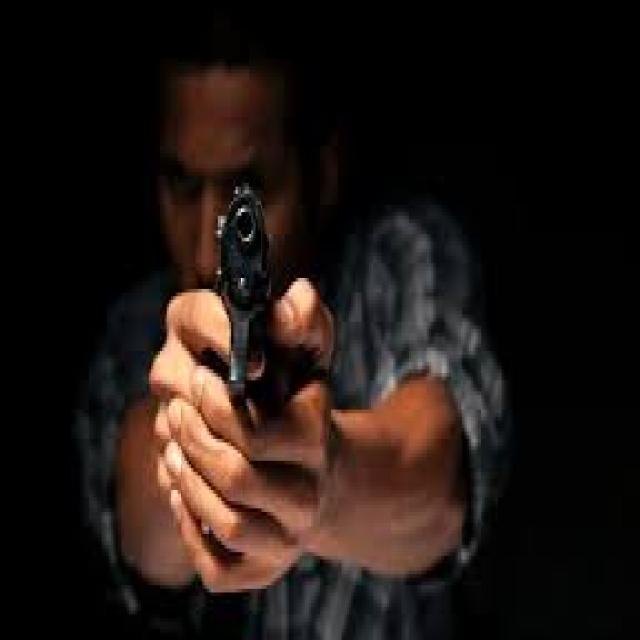weapons: (187, 151, 307, 533)
